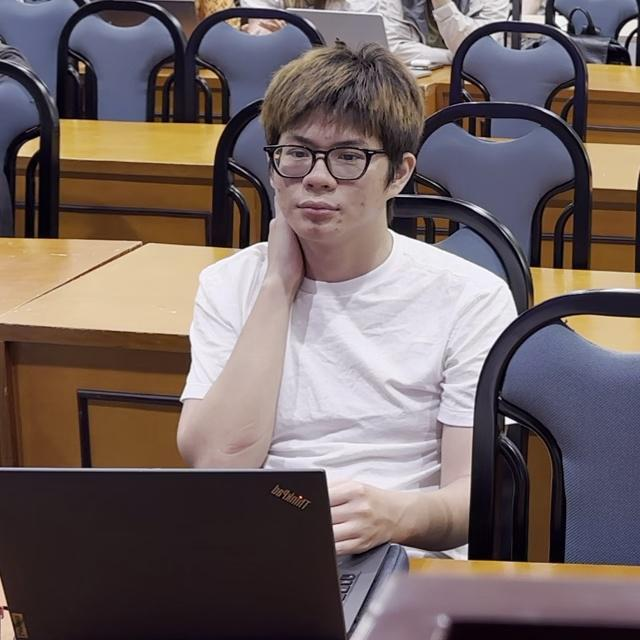Looking forward: (270, 125, 385, 247)
